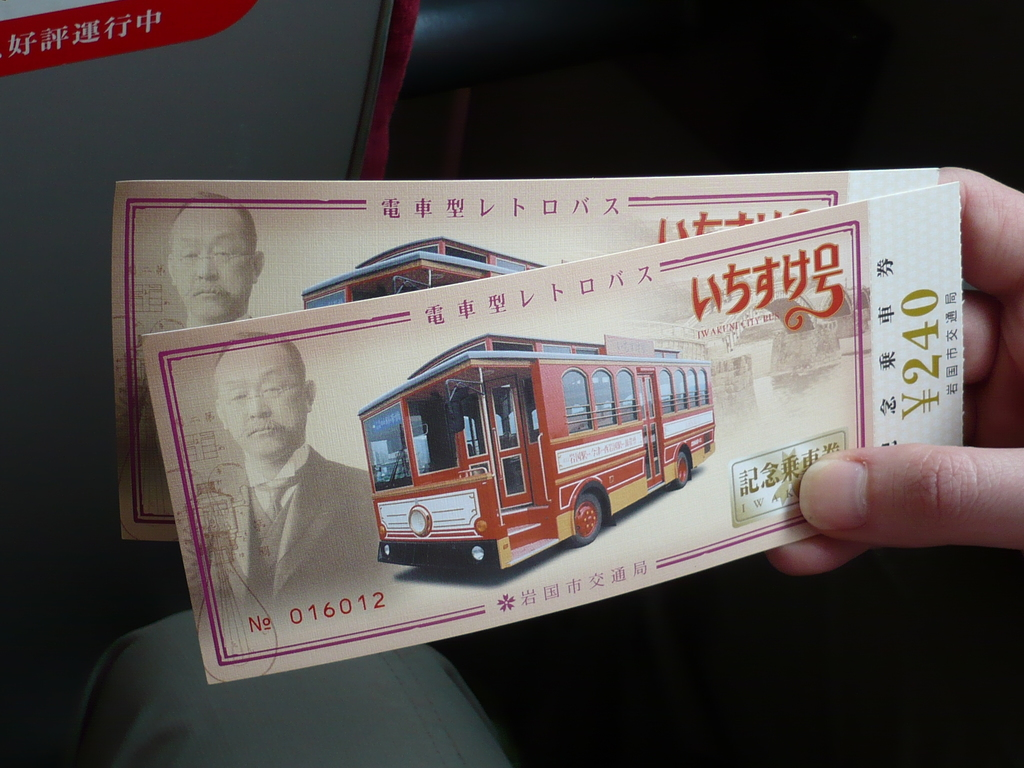Bus: (356, 325, 718, 571), (302, 235, 572, 305)
